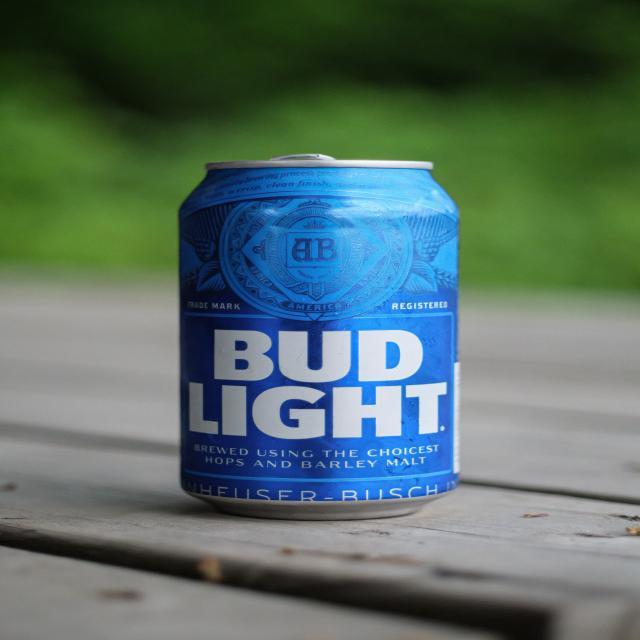can: (124, 120, 506, 540)
